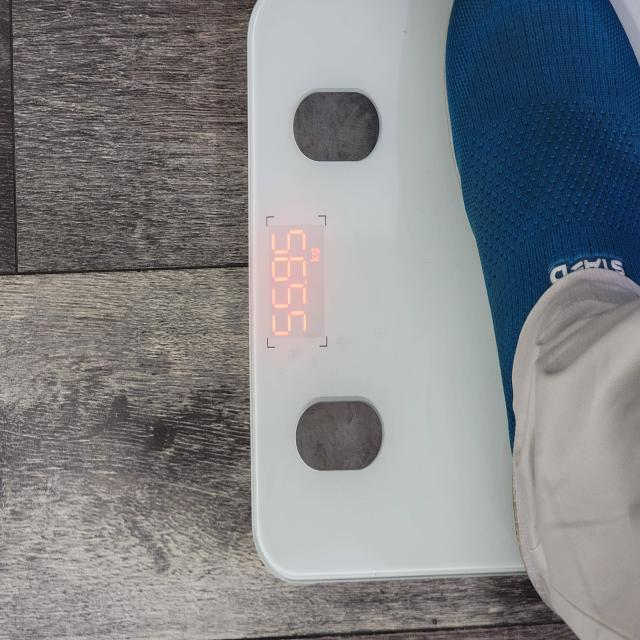ws: (246, 0, 526, 586)
